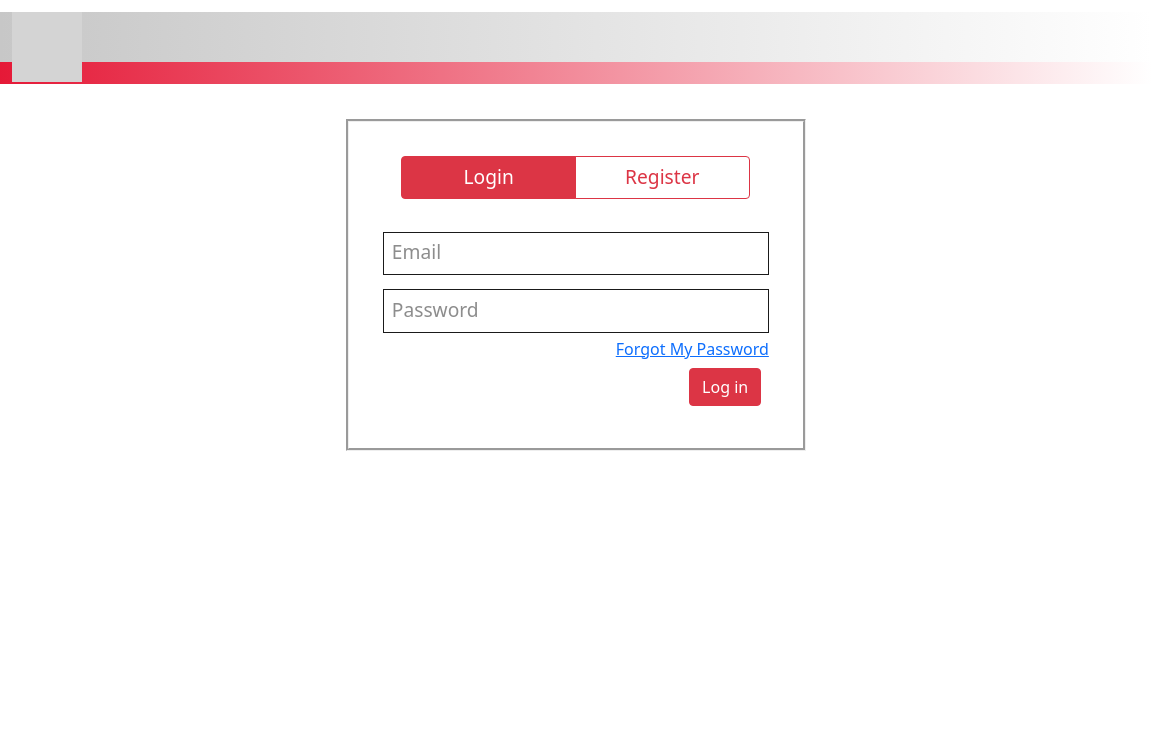
Scenario: login checks › checks email
Click the button "Log in": x=725, y=387 [689, 368, 761, 406]
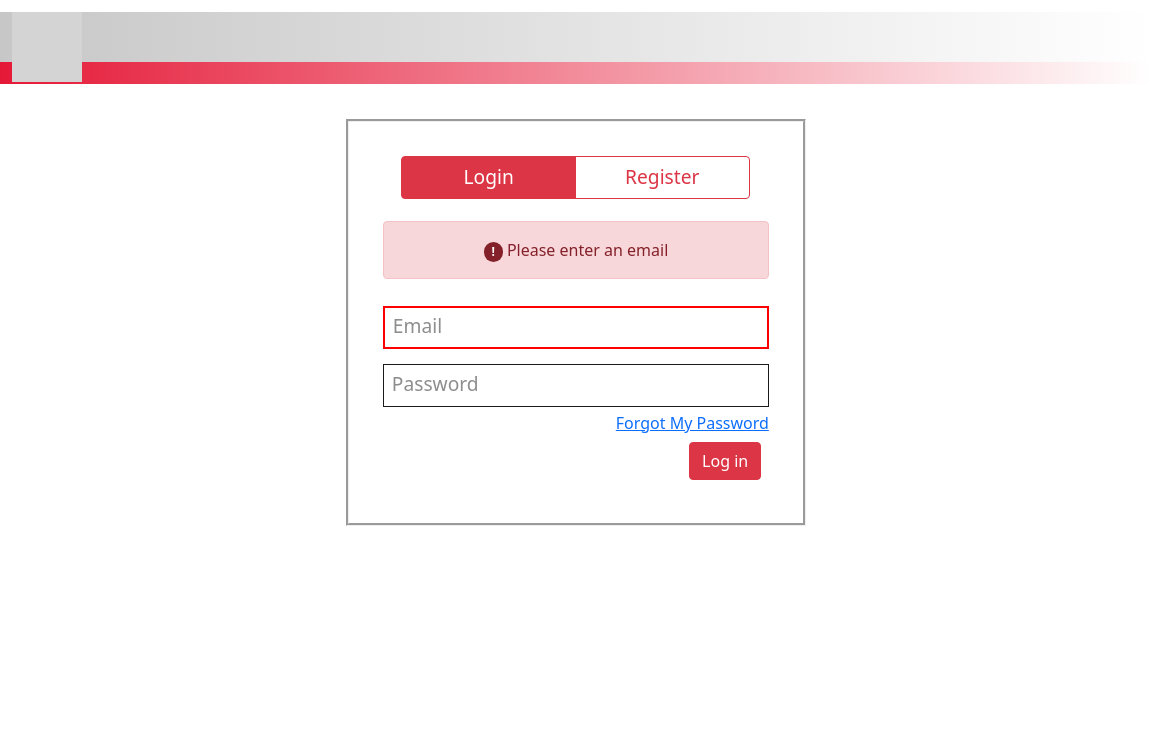
Expected: the text "Please enter an email" is shown, [503, 239, 668, 261]
